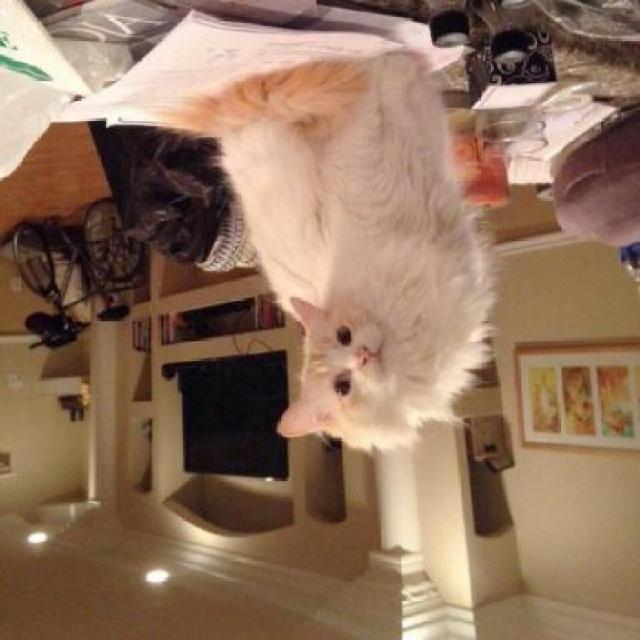cat: (248, 56, 508, 442)
